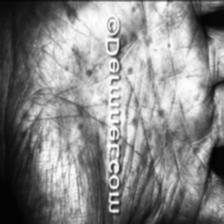Toxin: (144, 0, 194, 202), (64, 0, 104, 163), (125, 6, 144, 168)
